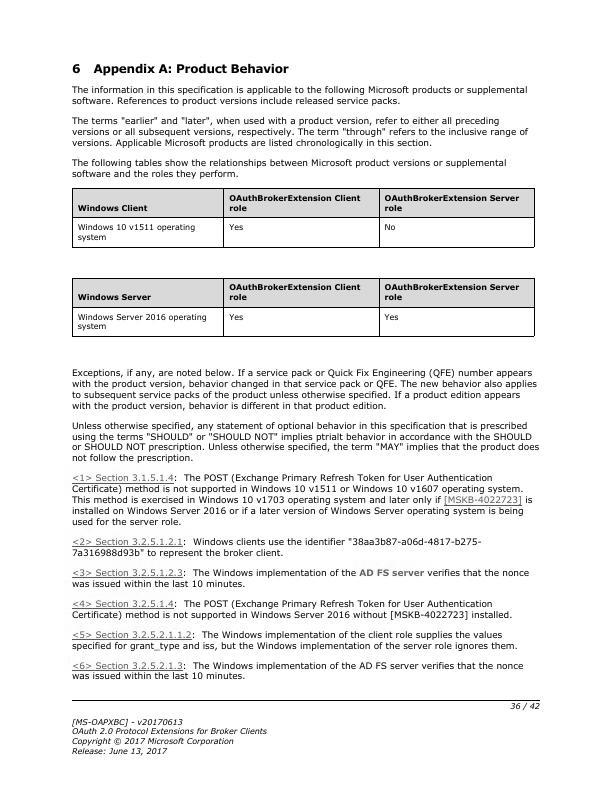table: (69, 186, 540, 251), (70, 275, 539, 340)
text: (69, 473, 535, 530), (68, 419, 542, 466), (66, 365, 540, 409), (69, 113, 530, 148), (69, 627, 518, 656), (70, 154, 511, 182), (70, 597, 516, 624), (70, 84, 530, 107), (69, 660, 526, 683), (67, 535, 486, 560), (68, 568, 535, 590), (68, 714, 268, 756), (68, 59, 291, 76)
